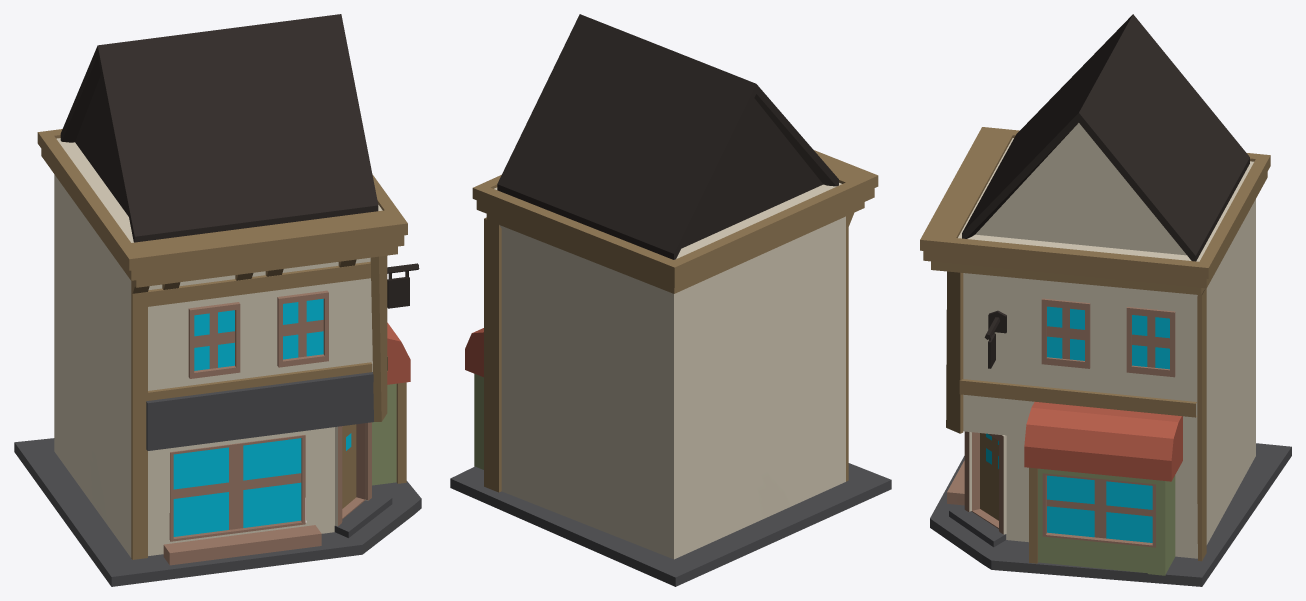
File: House.gltf
The picture shows the model from 3 angles, left to right: view 1: azimuth 30°, elevation 25°; view 2: azimuth 150°, elevation 25°; view 3: azimuth 270°, elevation 25°; orthographic projection. The views are drawn at different scales.
Visible parts, largest first — view 1: Cube.069; view 2: Cube.069; view 3: Cube.069.
Boxes of the visible parts, x1,y1,x2,y2 form: Cube.069: (14, 14, 421, 586); Cube.069: (450, 14, 891, 586); Cube.069: (920, 14, 1291, 586).
Size of the model in its own units: 5.62 by 7.17 by 5.47.
Materials: 1 (1 with a texture image).
